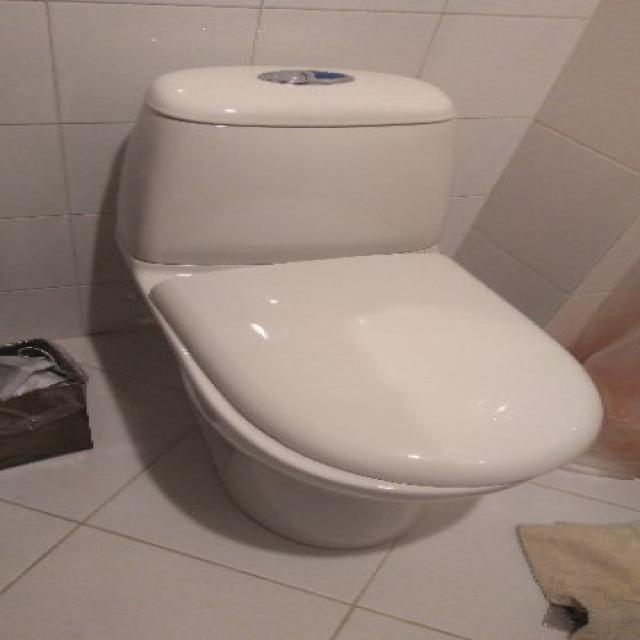toilet: (111, 64, 604, 549)
